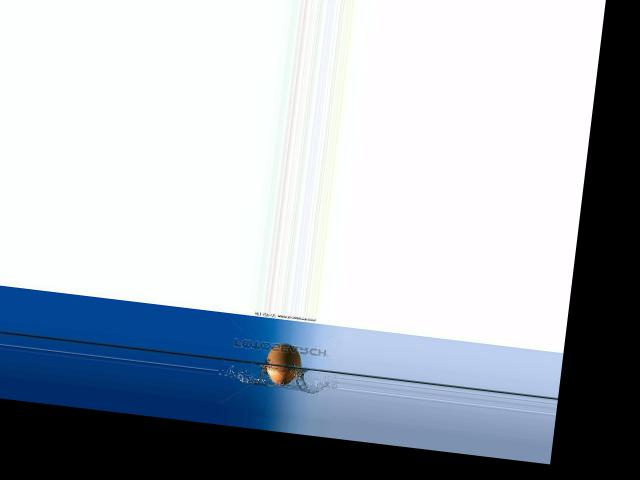egg: (264, 341, 303, 387)
